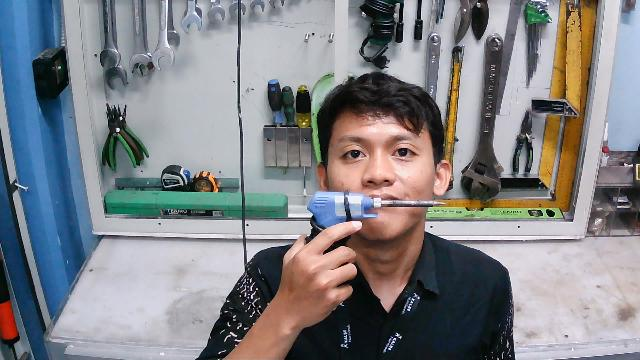solder_electrical: (304, 187, 450, 267)
